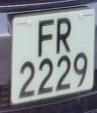2: (17, 55, 38, 104), (37, 54, 56, 98), (55, 53, 74, 94)
9: (72, 49, 89, 91)
F: (35, 16, 57, 60)
R: (55, 13, 75, 59)
